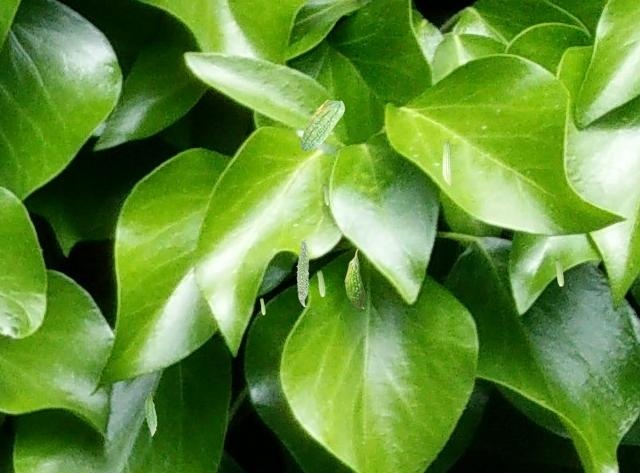ampalaya: (300, 99, 345, 152), (344, 248, 365, 309), (296, 238, 309, 307), (144, 392, 157, 437), (442, 139, 452, 186), (554, 258, 564, 286), (316, 270, 325, 297), (322, 184, 330, 205), (259, 297, 265, 315)
